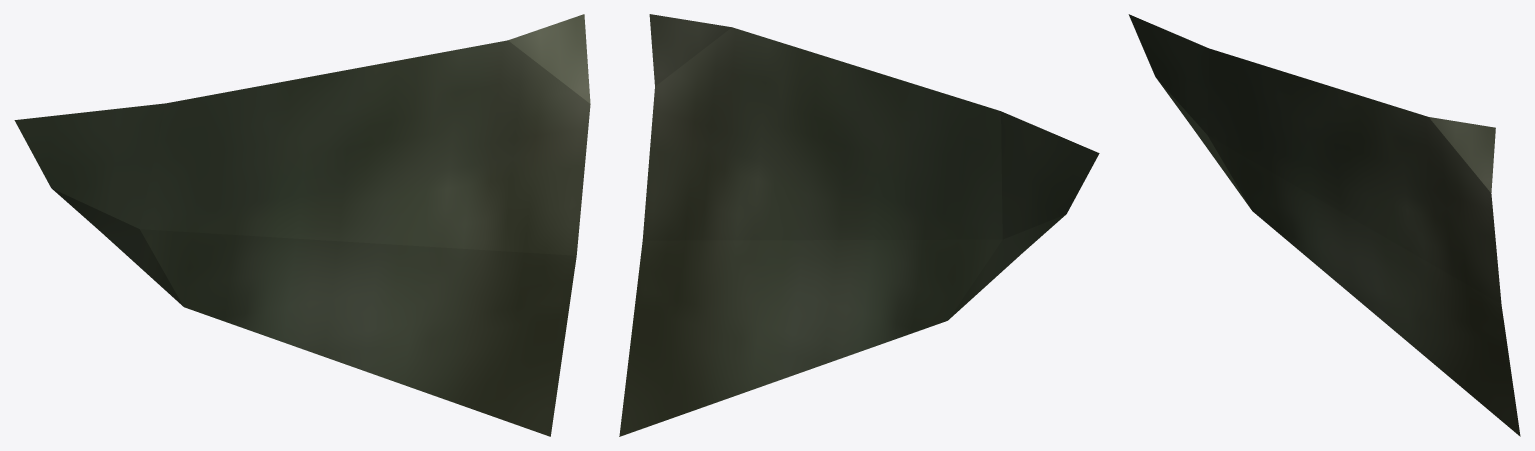
The picture shows the model from 3 angles, left to right: view 1: azimuth 30°, elevation 25°; view 2: azimuth 150°, elevation 25°; view 3: azimuth 330°, elevation 25°; orthographic projection. The views are drawn at different scales.
Bounding box in the file's own units: 0.3031 × 0.2418 × 0.0407.
Materials: 1 (1 with a texture image).
